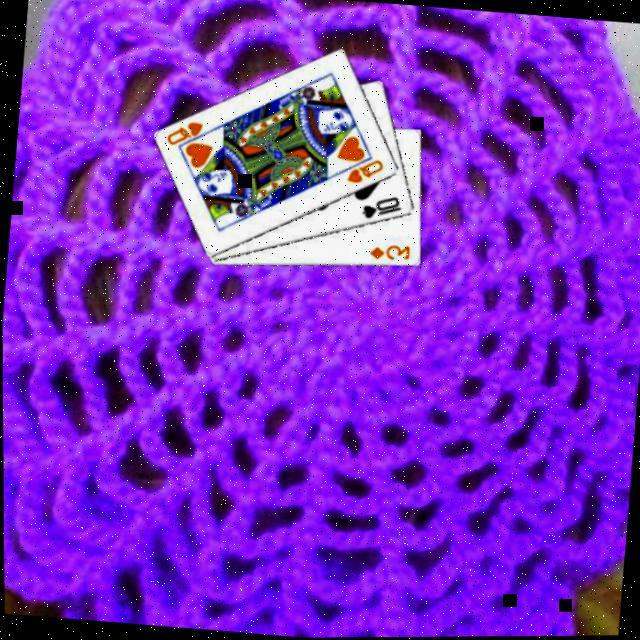10S: (359, 189, 405, 223)
3D: (366, 237, 414, 263)
QH: (164, 114, 216, 152), (344, 154, 387, 186)
